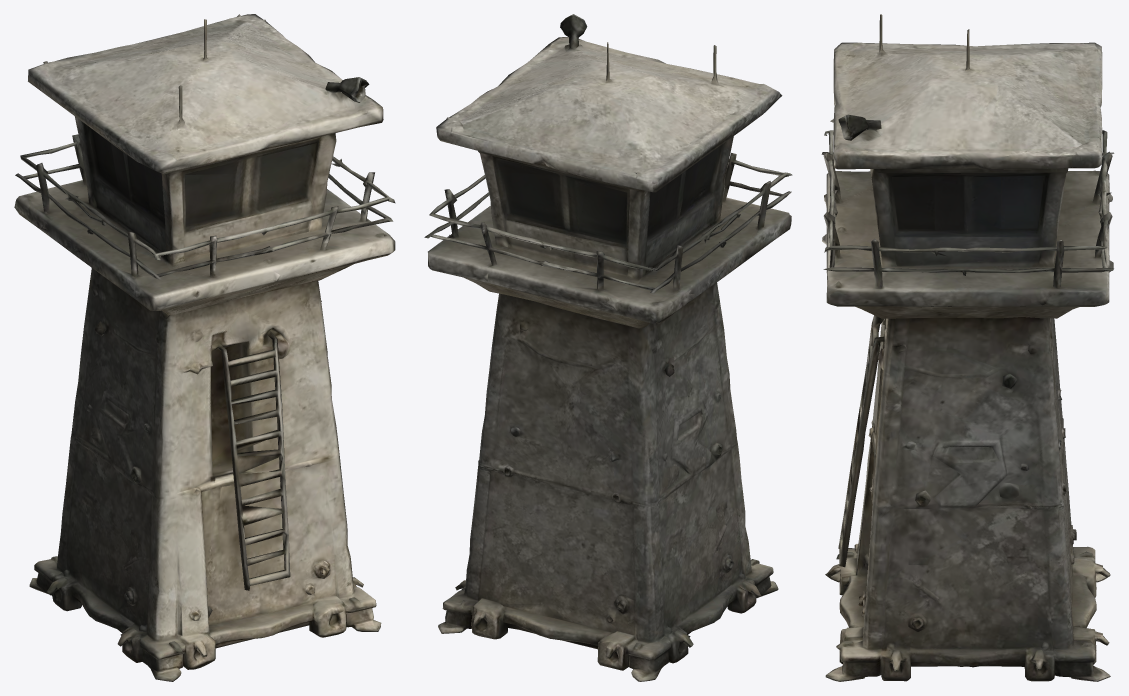
Rendered from xd_tower.glb.
3 renders of one model, left to right at view 1: azimuth 30°, elevation 25°; view 2: azimuth 150°, elevation 25°; view 3: azimuth 270°, elevation 25°, orthographic. The views are drawn at different scales.
Parts seen in each view (by area): view 1: tripo_node_6a2e56ba-c9b8-4e89-9d24-631a94aab1c3; view 2: tripo_node_6a2e56ba-c9b8-4e89-9d24-631a94aab1c3; view 3: tripo_node_6a2e56ba-c9b8-4e89-9d24-631a94aab1c3.
Part boxes in pixels (x1,y1,x2,y2): tripo_node_6a2e56ba-c9b8-4e89-9d24-631a94aab1c3: (14, 14, 395, 681); tripo_node_6a2e56ba-c9b8-4e89-9d24-631a94aab1c3: (424, 14, 792, 681); tripo_node_6a2e56ba-c9b8-4e89-9d24-631a94aab1c3: (821, 14, 1114, 681).
Bounding box in the file's own units: 0.4436 × 0.9798 × 0.4358.
Materials: 1 (1 with a texture image).
